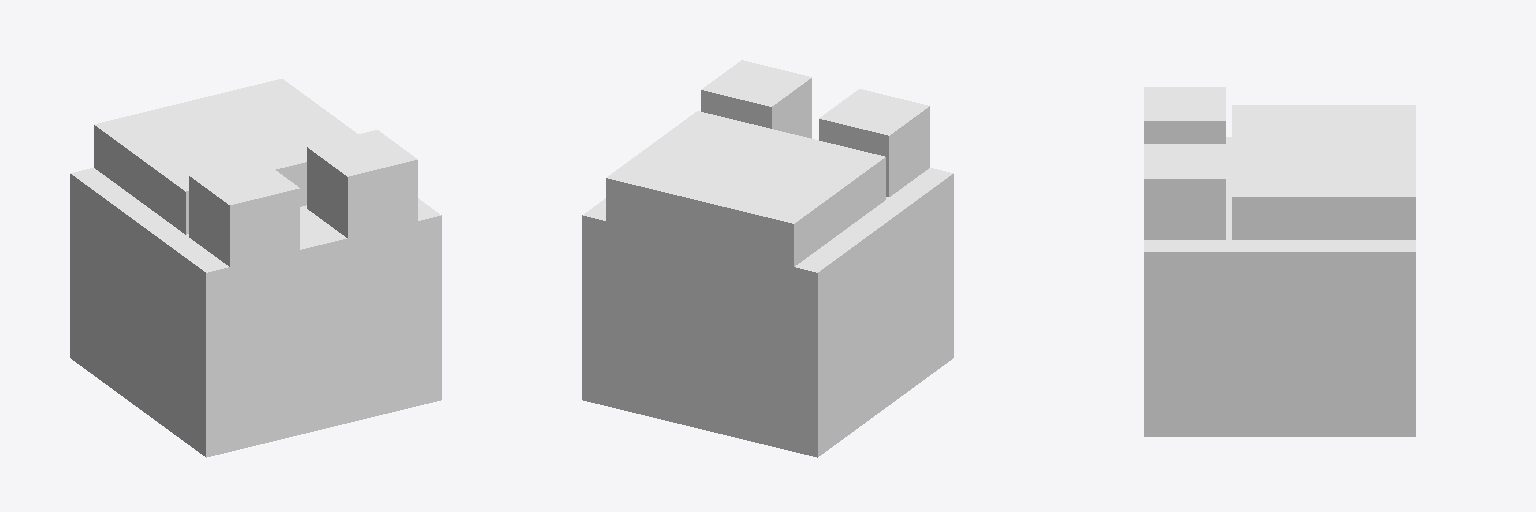
File: Toad.obj
The picture shows the model from 3 angles: view 1: azimuth 30°, elevation 25°; view 2: azimuth 150°, elevation 25°; view 3: azimuth 270°, elevation 25°; orthographic projection.
Visible parts, largest first — view 1: Toad; view 2: Toad; view 3: Toad.
Boxes of the visible parts, x1=… form: Toad: x1=70, y1=79, x2=441, y2=457; Toad: x1=582, y1=60, x2=953, y2=457; Toad: x1=1144, y1=87, x2=1415, y2=436.
Bounding box in the file's own units: 40 × 40 × 40.